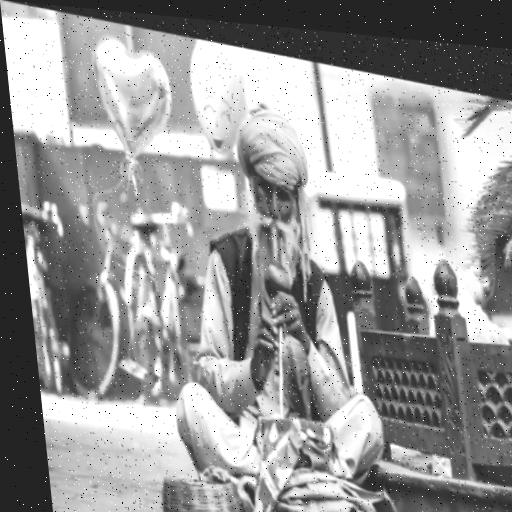balloon: (89, 35, 181, 173), (185, 33, 252, 150)
